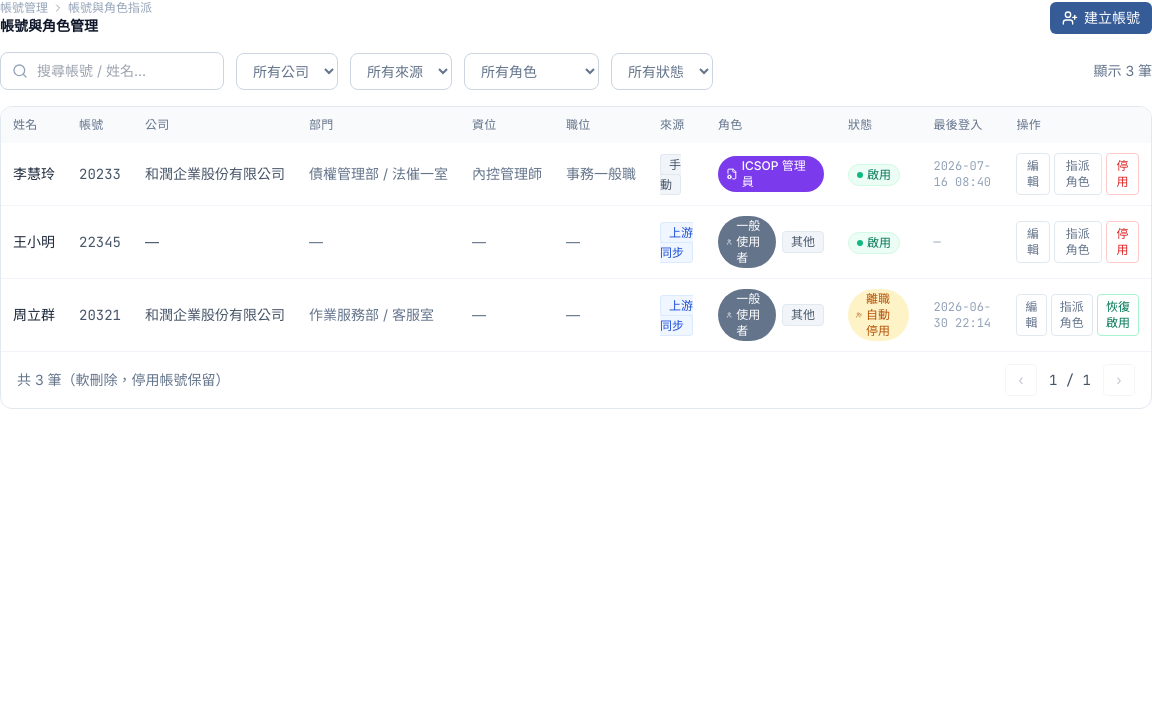
it: AccountManagementPage — F003 帳號與角色管理 › 編輯上游帳號：姓名唯讀、顯示上游維護說明
Check: the text "王小明" is shown, box [13, 232, 55, 252]
Click the button "編輯" in the row of "王小明". click: coordinates (1033, 242)
box: [1016, 221, 1050, 263]
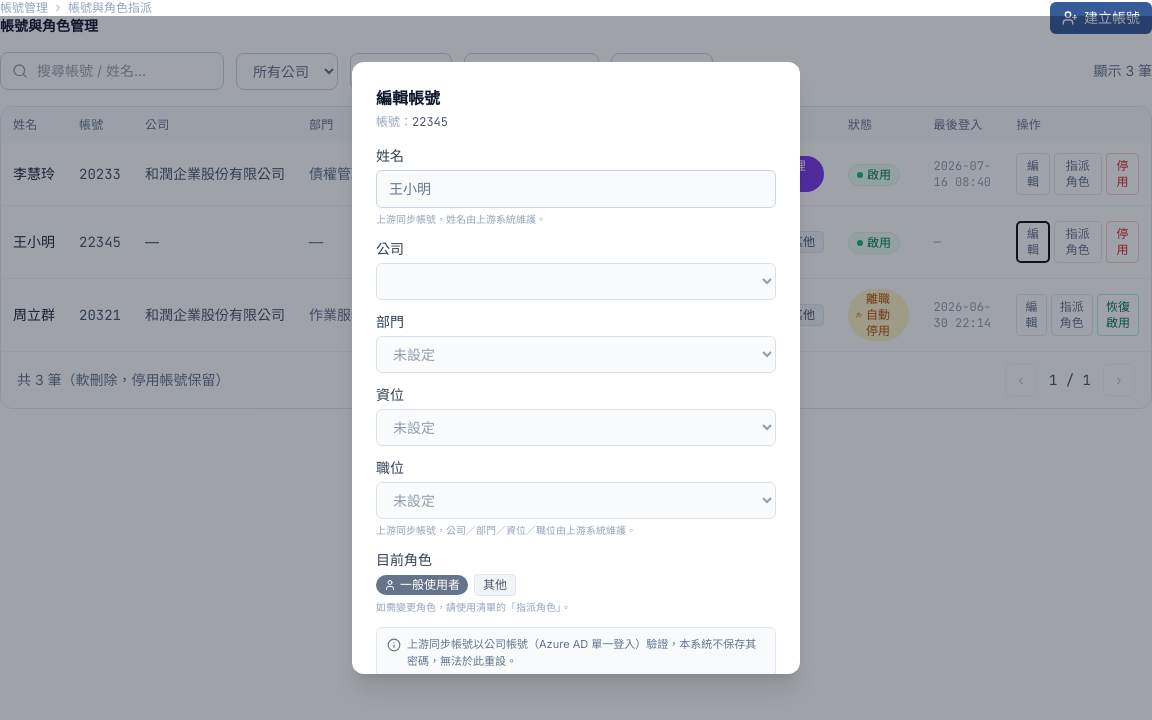
Check: the text "上游同步帳號，姓名由上游系統維護。" is shown, box [376, 213, 546, 225]
Check: the text "上游同步帳號，公司／部門／資位／職位由上游系統維護。" is shown, box [376, 524, 636, 536]
